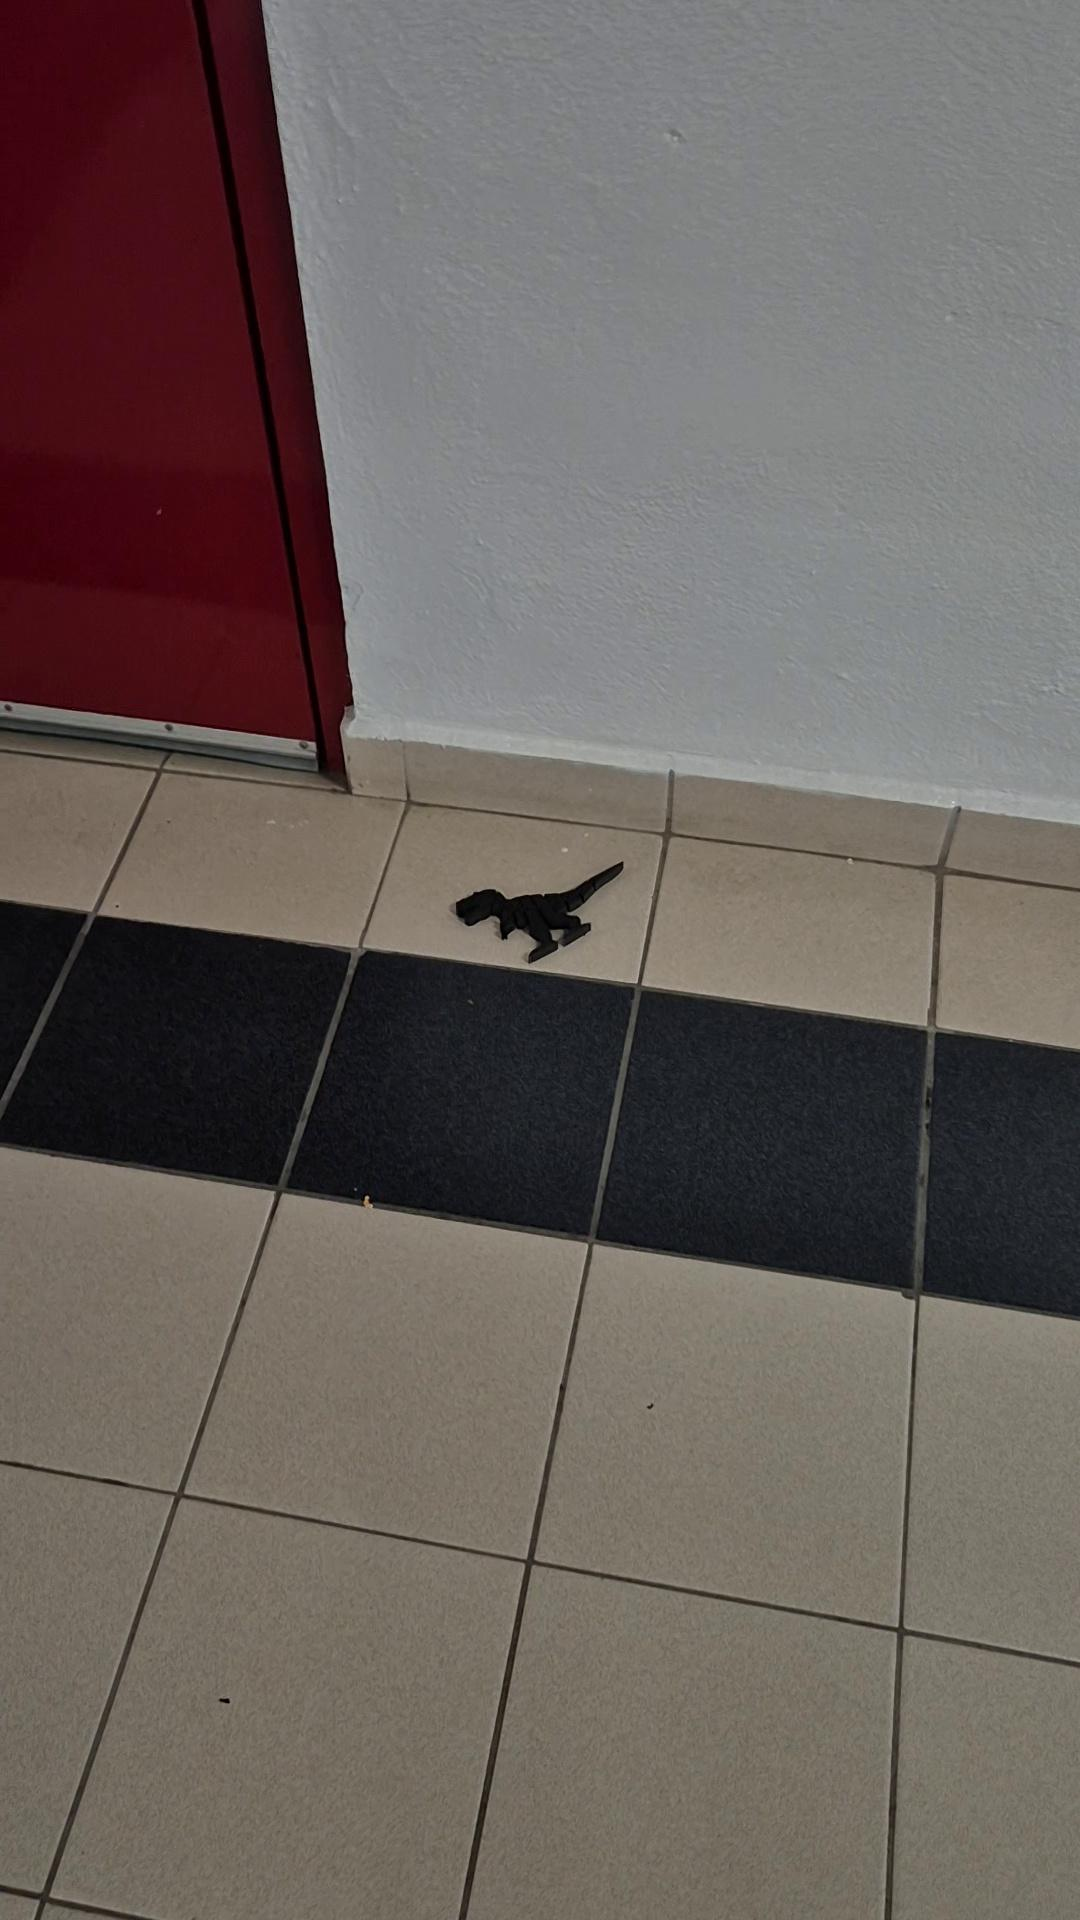dinosaur: (455, 860, 625, 965)
